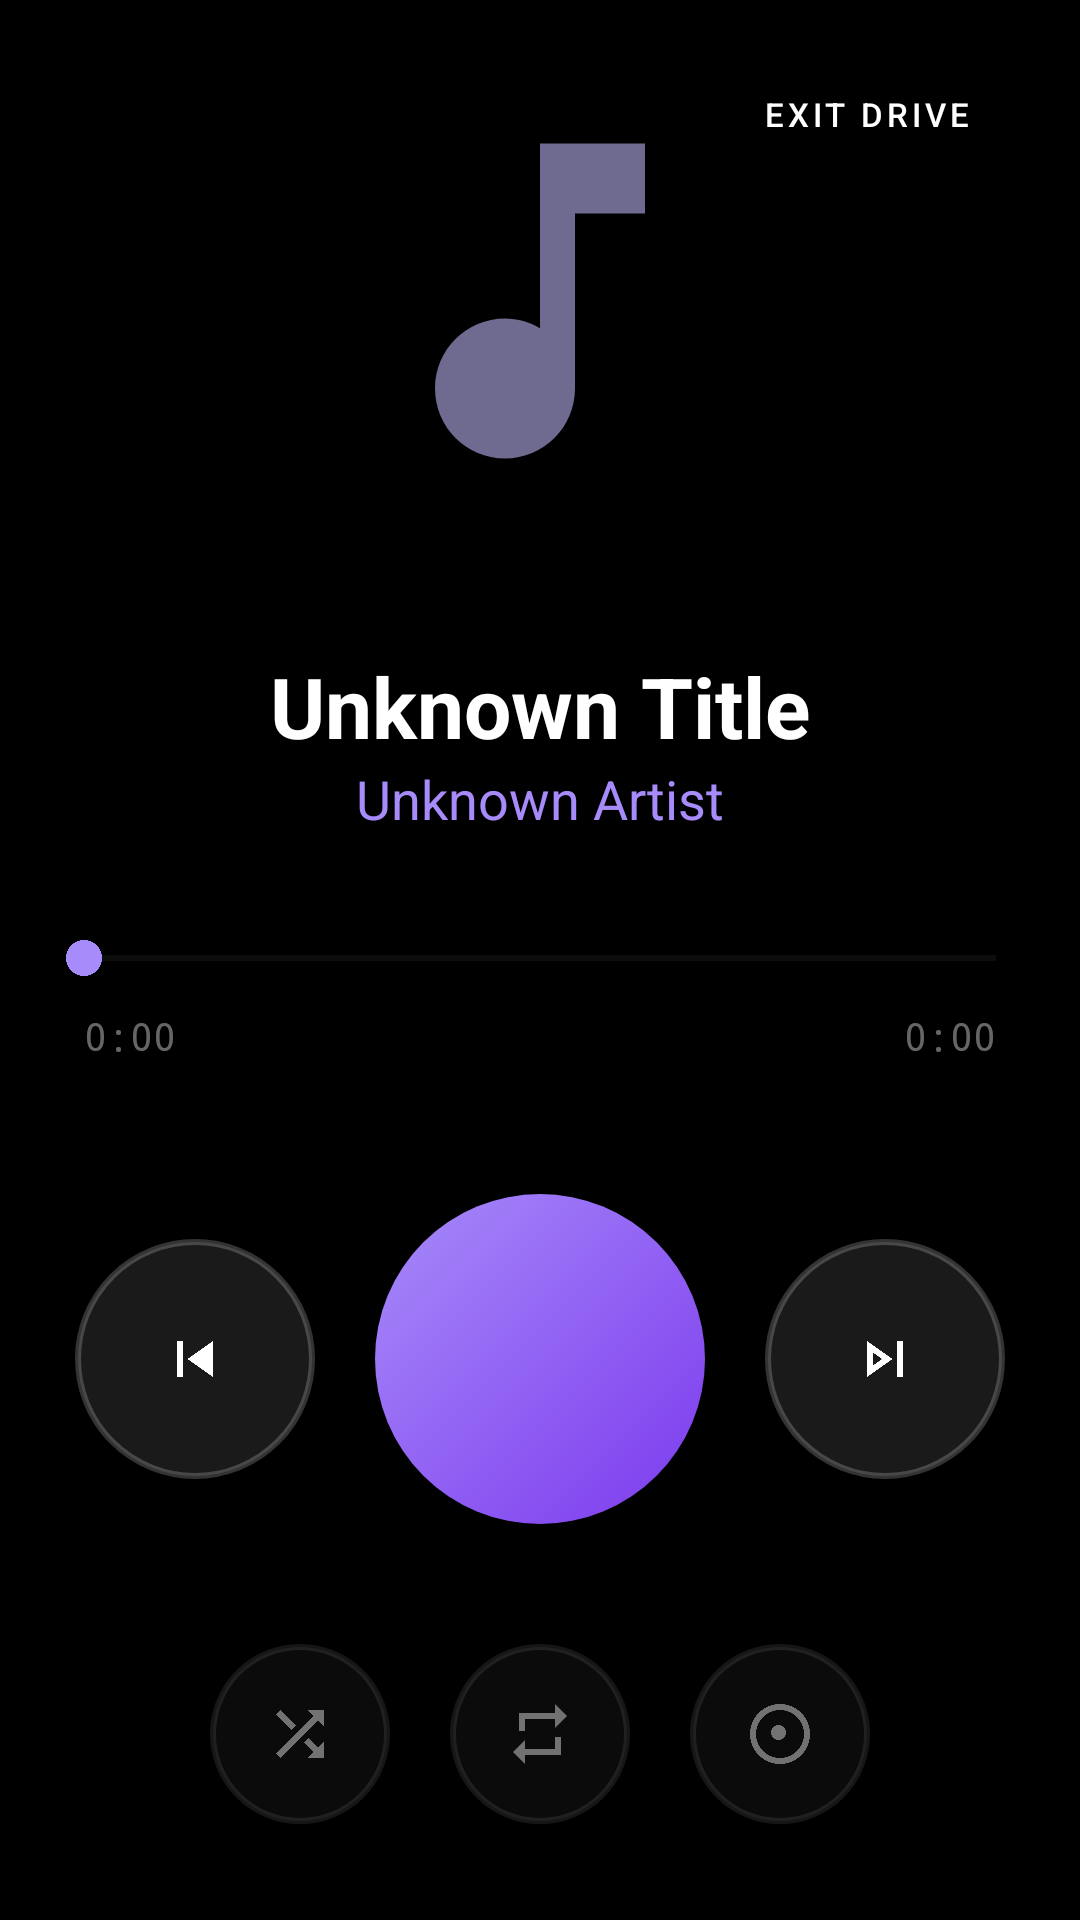

Screen size 1080w x 1920h. Icon name, then its box in pixels as [left=x1, top=y1, right=x2, bottom=y2]:
music note: [left=435, top=143, right=645, bottom=459]
repeat: [left=450, top=1644, right=630, bottom=1824]
shuffle: [left=210, top=1644, right=390, bottom=1824]
skip next: [left=765, top=1239, right=1005, bottom=1479]
skip previous: [left=75, top=1239, right=315, bottom=1479]
